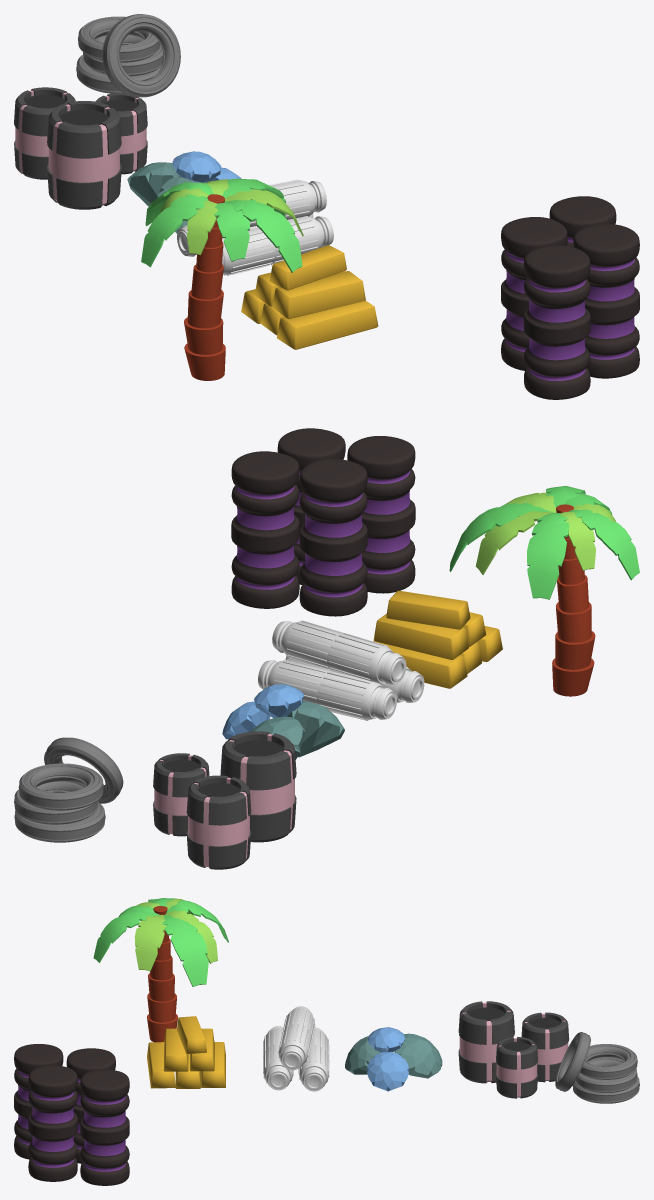
3 renders of one model, top to bottom at view 1: azimuth 30°, elevation 25°; view 2: azimuth 150°, elevation 25°; view 3: azimuth 270°, elevation 25°, orthographic. The views are drawn at different scales.
Visible parts, largest first — view 1: fuel_cells, barrels, gold, Plane.008, tires, Cylinder, energy_cells, diamonds; view 2: fuel_cells, barrels, energy_cells, Plane.008, tires, gold, Cylinder, diamonds; view 3: fuel_cells, barrels, Plane.008, gold, tires, energy_cells, diamonds, Cylinder.
Part boxes in pixels (box(x1,y1,x2,y2)): fuel_cells: box(501, 196, 639, 399); barrels: box(14, 87, 147, 209); gold: box(241, 245, 378, 349); Plane.008: box(141, 178, 303, 272); tires: box(76, 14, 180, 97); Cylinder: box(184, 194, 225, 380); energy_cells: box(177, 179, 333, 275); diamonds: box(127, 151, 241, 233); fuel_cells: box(231, 428, 415, 616); barrels: box(153, 731, 296, 869); energy_cells: box(258, 620, 424, 720); Plane.008: box(449, 486, 639, 599); tires: box(14, 737, 123, 842); gold: box(373, 590, 502, 688); Cylinder: box(552, 504, 595, 696); diamonds: box(222, 684, 344, 759); fuel_cells: box(14, 1044, 129, 1185); barrels: box(458, 1001, 569, 1098); Plane.008: box(93, 898, 228, 986); gold: box(147, 1016, 225, 1088); tires: box(555, 1032, 639, 1103); energy_cells: box(263, 1006, 329, 1091); diamonds: box(345, 1027, 442, 1091); Cylinder: box(147, 906, 178, 1042).
Size of the model in its own units: 1385 by 616 by 2317.
